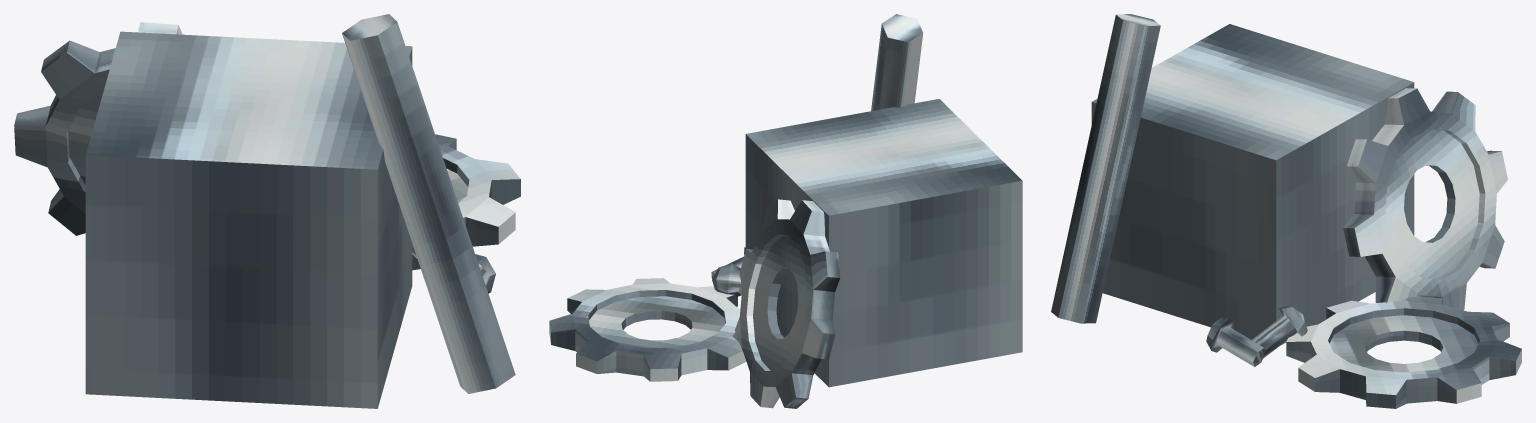
Rendered from refined_metal.fbx.
3 renders of one model, left to right at view 1: azimuth 30°, elevation 25°; view 2: azimuth 150°, elevation 25°; view 3: azimuth 270°, elevation 25°, orthographic. The views are drawn at different scales.
Visible parts, largest first — view 1: Cylinder.006; view 2: Cylinder.006; view 3: Cylinder.006.
Boxes of the visible parts, bbox=[...] form: Cylinder.006: bbox=[14, 14, 520, 408]; Cylinder.006: bbox=[549, 14, 1022, 408]; Cylinder.006: bbox=[1051, 14, 1521, 408].
Bounding box in the file's own units: 747 × 522 × 734.
1 material, 1 textured.
